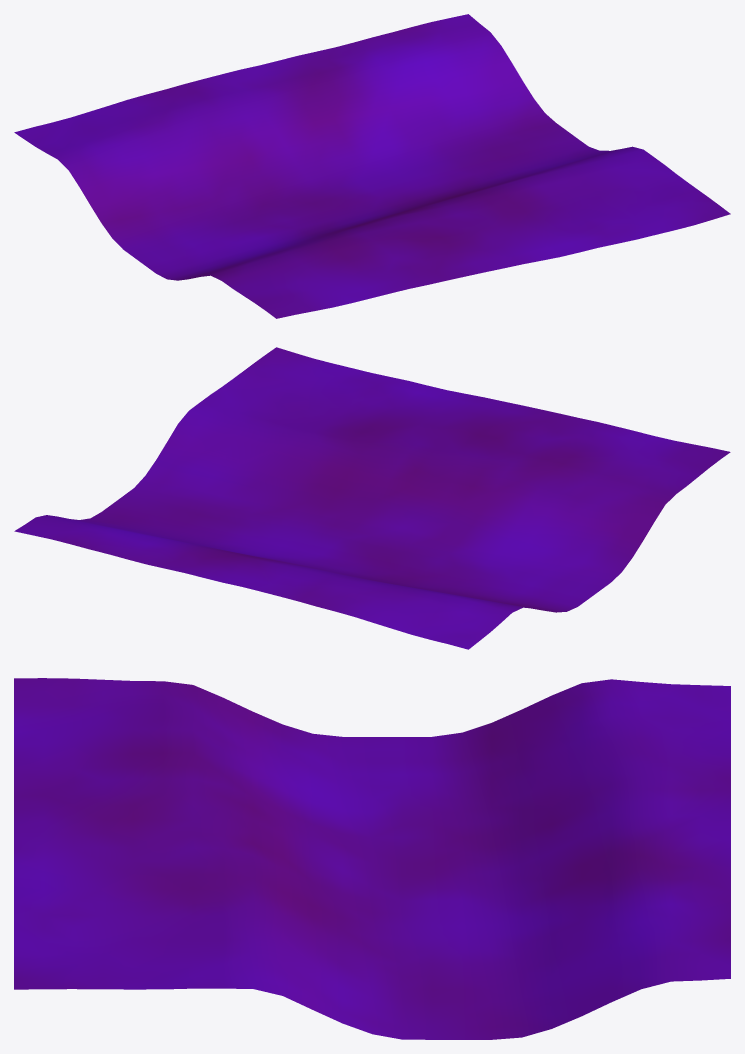
The model's file is ground_51.glb.
3 renders of one model, top to bottom at view 1: azimuth 30°, elevation 25°; view 2: azimuth 150°, elevation 25°; view 3: azimuth 270°, elevation 25°, orthographic. The views are drawn at different scales.
Parts seen in each view (by area): view 1: Ground_51; view 2: Ground_51; view 3: Ground_51.
Boxes of the visible parts, <box> form: Ground_51: <box>14,14,730,318</box>; Ground_51: <box>14,347,730,649</box>; Ground_51: <box>14,678,730,1039</box>.
Size of what is drawn, in the model's own units: 24 by 2.31 by 24.
